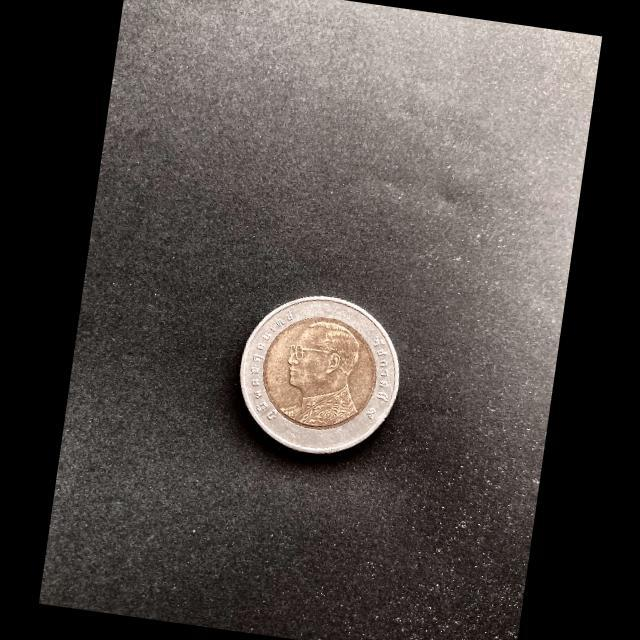10 Bath: (239, 294, 405, 457)
